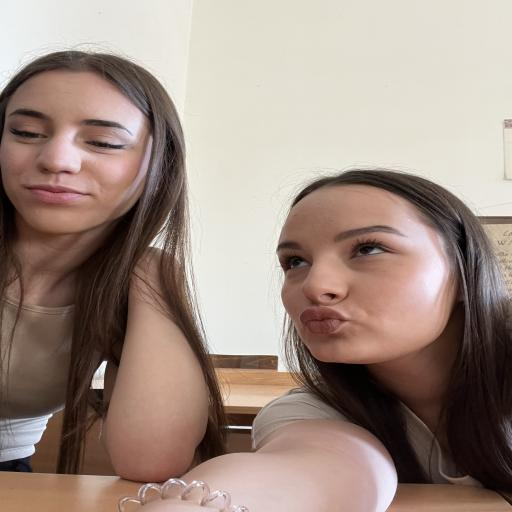marija: (274, 182, 449, 362)
masa: (5, 68, 160, 233)
